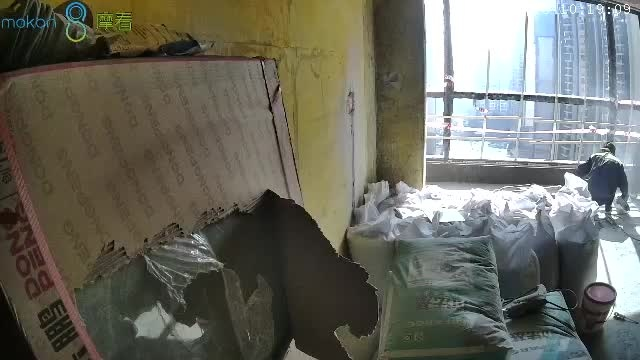people: (579, 141, 630, 216)
window: (425, 1, 640, 169)
